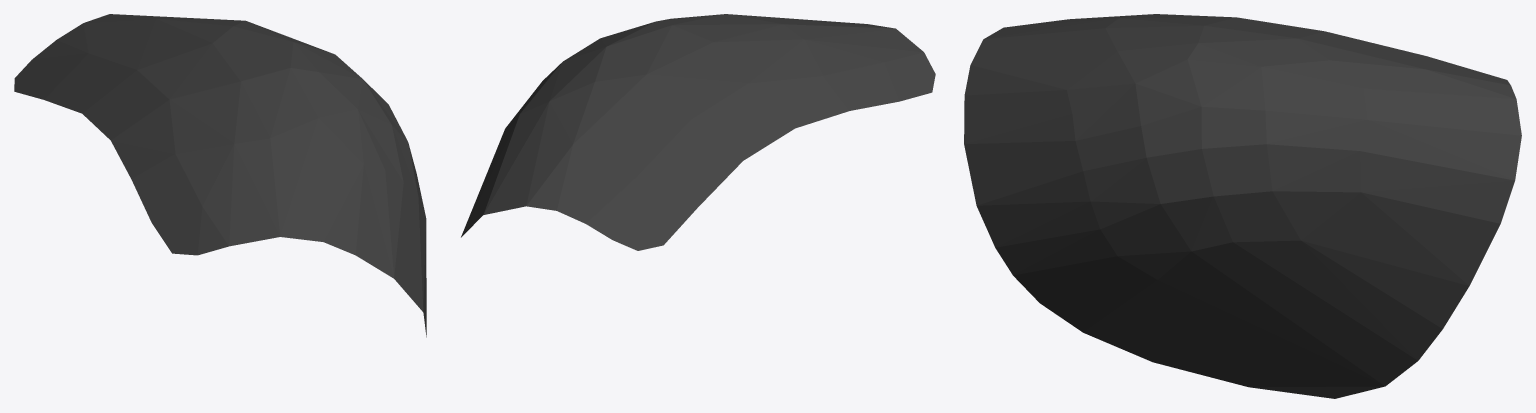
The model's file is Scapula_caudal_angle.glb.
3 views of the same model, side by side, from view 1: azimuth 30°, elevation 25°; view 2: azimuth 150°, elevation 25°; view 3: azimuth 270°, elevation 25° (orthographic). The views are drawn at different scales.
Parts seen in each view (by area): view 1: Scapula_caudal_angle; view 2: Scapula_caudal_angle; view 3: Scapula_caudal_angle.
Boxes of the visible parts, bbox=[...] form: Scapula_caudal_angle: bbox=[14, 14, 426, 337]; Scapula_caudal_angle: bbox=[461, 14, 935, 250]; Scapula_caudal_angle: bbox=[964, 14, 1521, 398].
Size of the model in its own units: 0.1102 by 0.1195 by 0.1801.
Materials: 1 (1 with a texture image).
